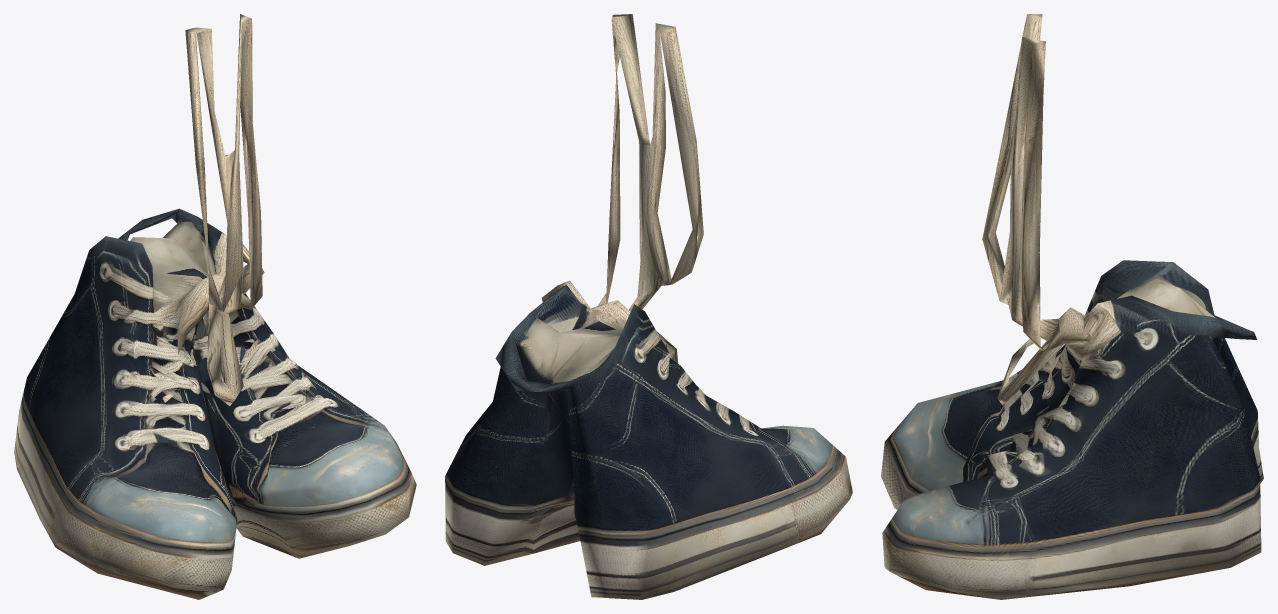
File: sneakers.glb
3 renders of one model, left to right at view 1: azimuth 30°, elevation 25°; view 2: azimuth 150°, elevation 25°; view 3: azimuth 270°, elevation 25°, orthographic. The views are drawn at different scales.
Parts seen in each view (by area): view 1: Mesh_0; view 2: Mesh_0; view 3: Mesh_0.
Part boxes in pixels (x1,y1,x2,y2): Mesh_0: [14, 14, 416, 599]; Mesh_0: [445, 14, 852, 599]; Mesh_0: [881, 14, 1263, 599].
Bounding box in the file's own units: 1.26 × 1.91 × 1.22.
1 material, 1 textured.
